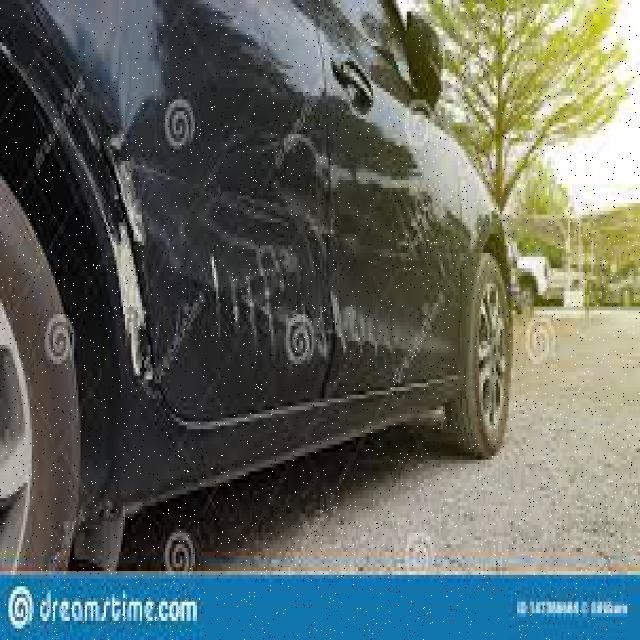doorouter-dent: (132, 12, 344, 452)
quaterpanel-dent: (0, 0, 151, 503)
